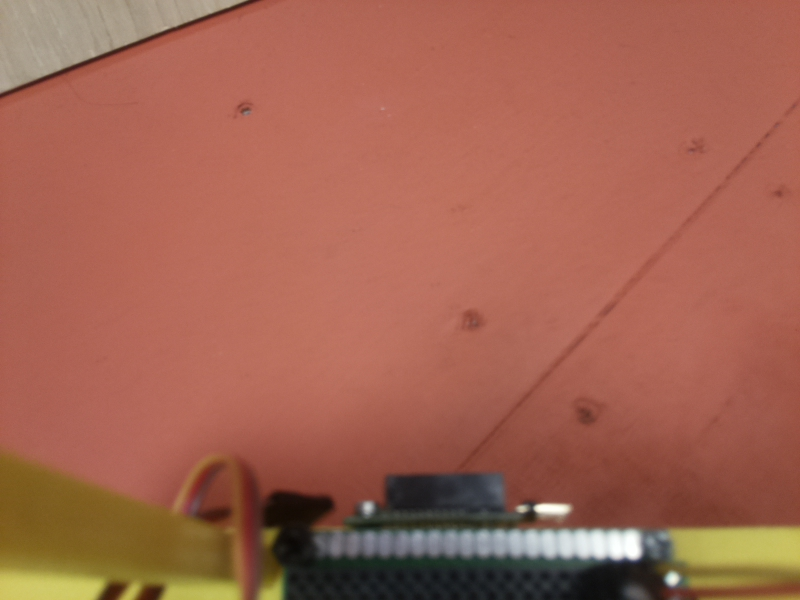slope: (1, 1, 267, 102)
